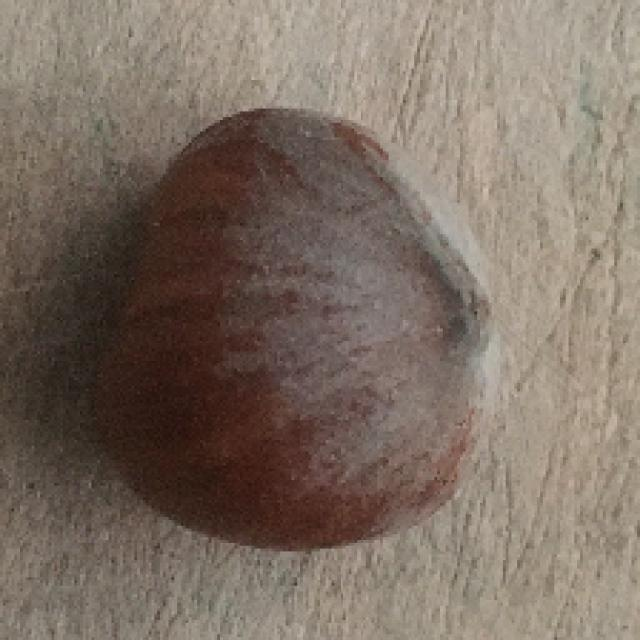qualityHazelnut: (93, 106, 508, 547)
